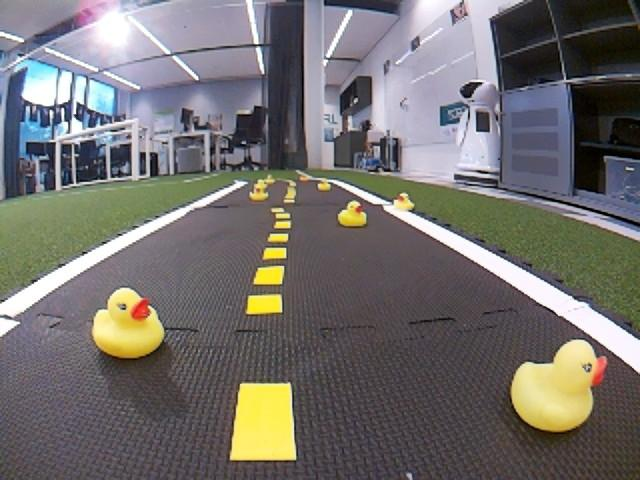Duckies: (512, 336, 606, 441), (83, 286, 179, 358), (336, 200, 367, 226), (396, 193, 417, 210), (251, 186, 269, 200), (315, 179, 329, 192), (299, 173, 310, 181)
